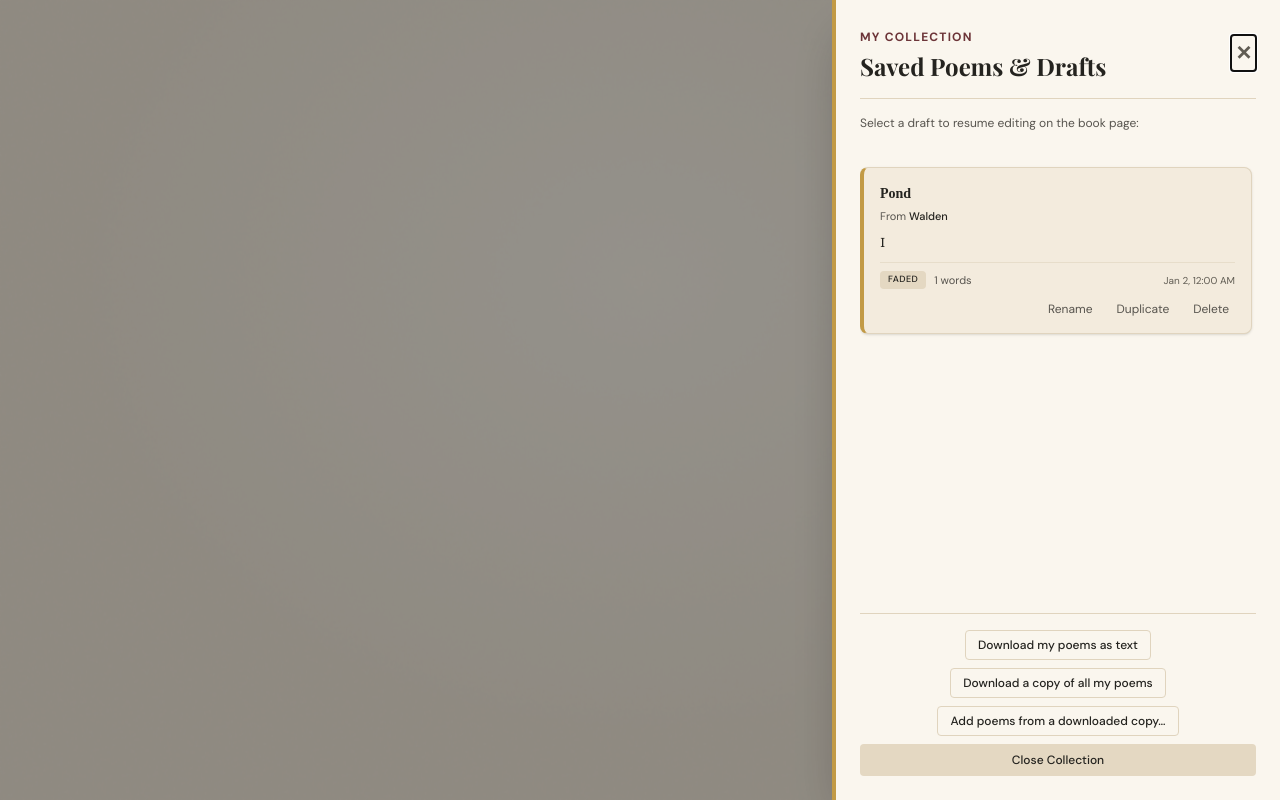
DraftsDrawer keyboard access › starts on Cancel, and Escape cancels without closing the collection or deleting anything
Click the button with aria-label "Delete draft Pond".
click(1211, 309)  # box left=1183, top=297, right=1239, bottom=321
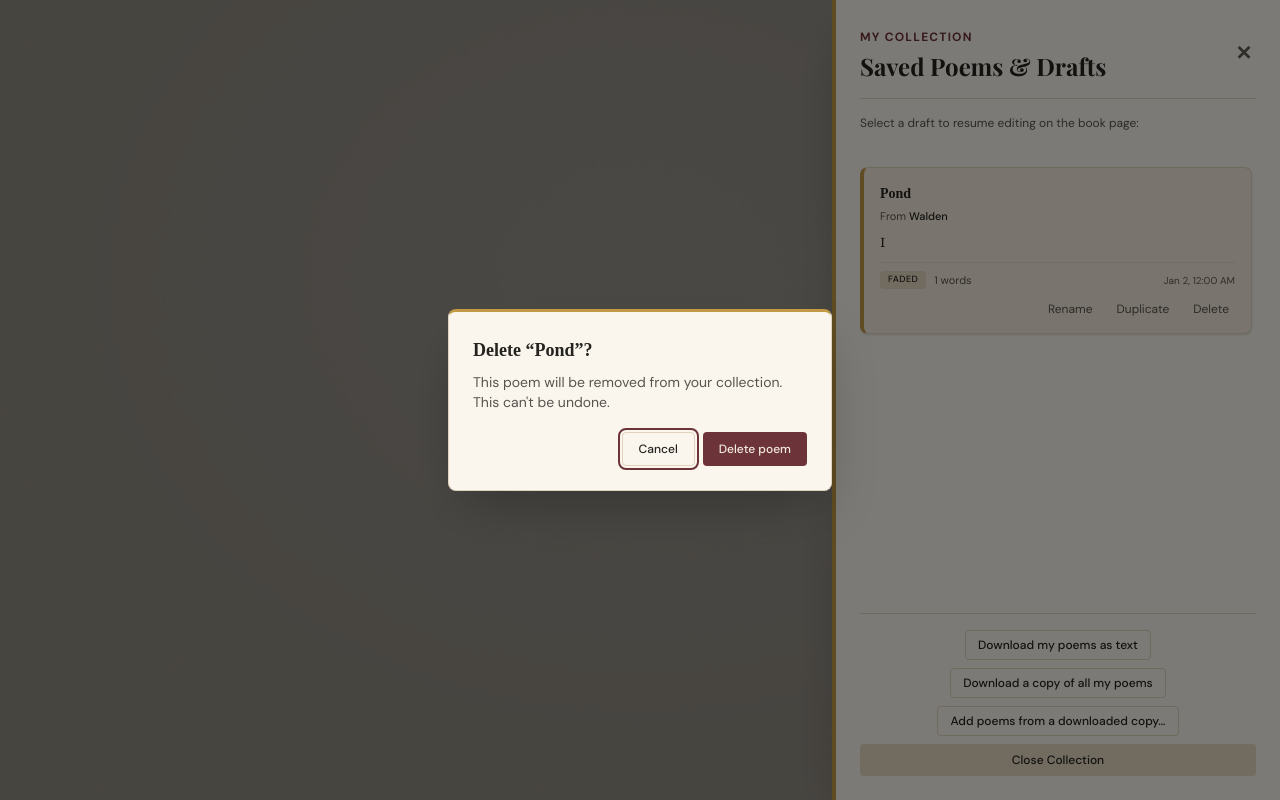
Expected: the button "Cancel" is shown, left=622, top=432, right=695, bottom=466
Press Escape in the dialog that starts with "Delete “Pond”?", box left=448, top=309, right=832, bottom=491
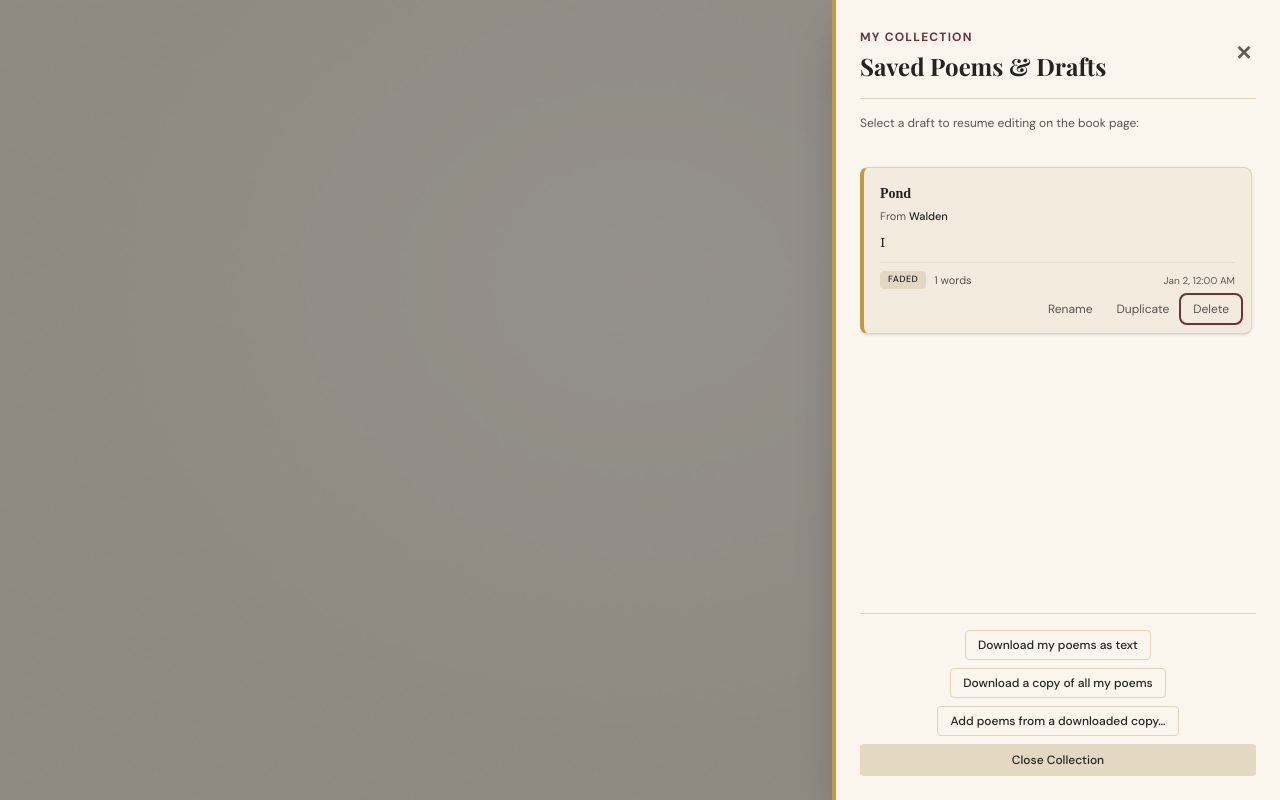
Expected: the number of list items is 1, left=860, top=167, right=1252, bottom=334
Expected: the dialog is gone
